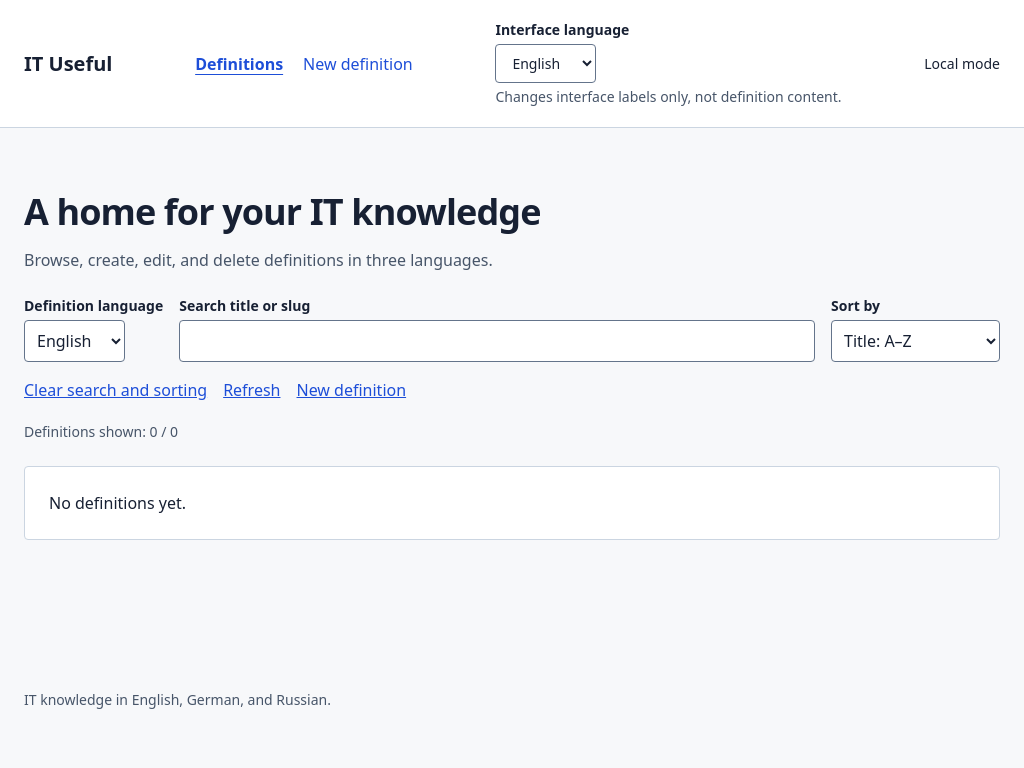
Test: keeps language switching usable when storage access is denied
The width and height of the screenshot is (1024, 768).
Select "Русский" in the dropdown labelled "Interface language" at (546, 64), box [495,44,596,83]
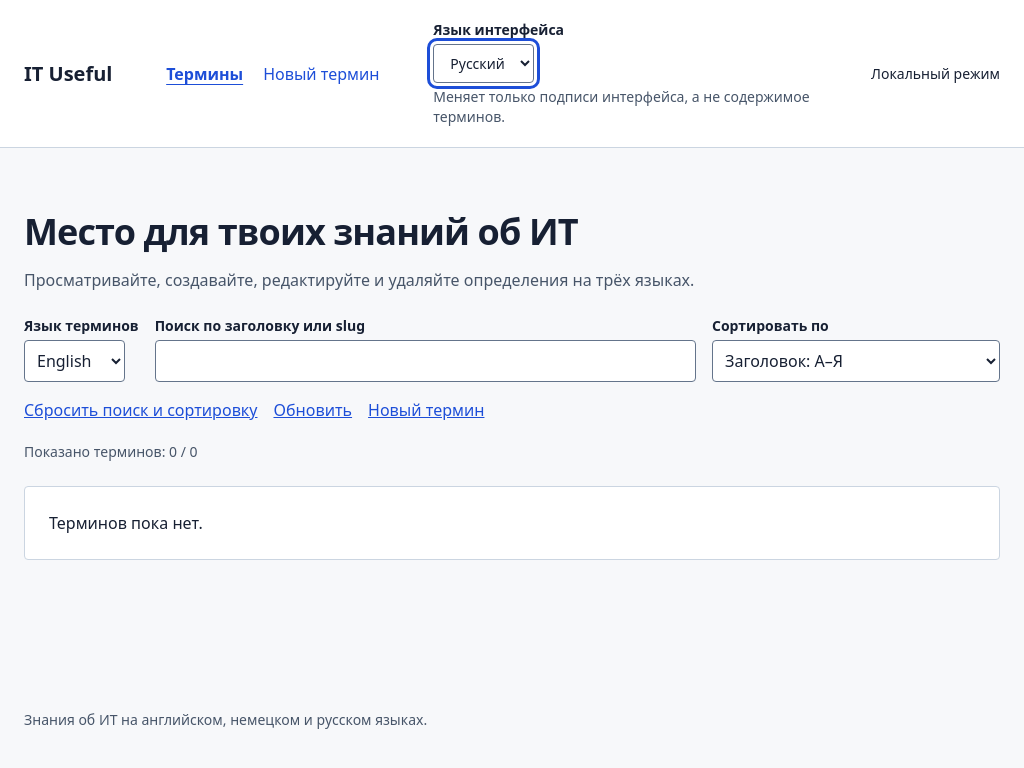
Check: the heading reads "Место для твоих знаний об ИТ", box [24,207,578,256]
